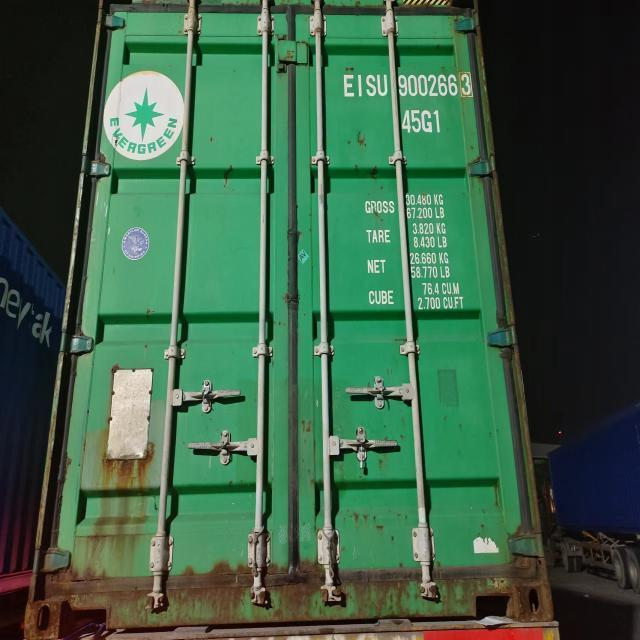ISO: (404, 106, 443, 134)
container_number: (346, 74, 474, 99)
